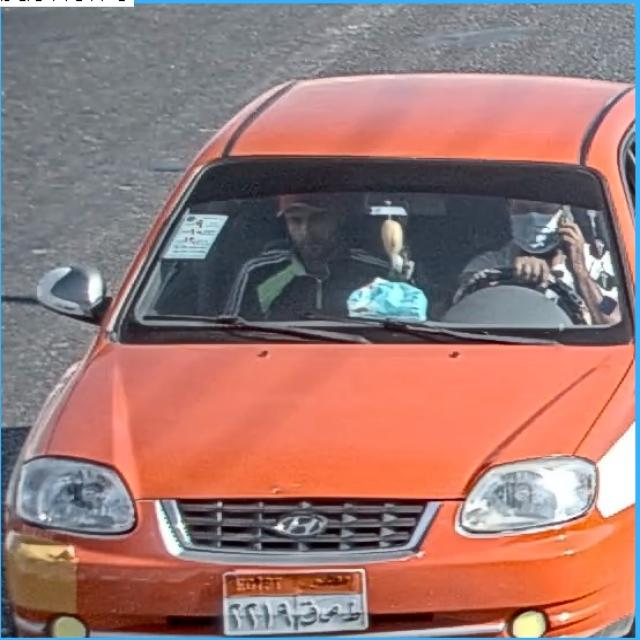windshield: (142, 160, 619, 338)
